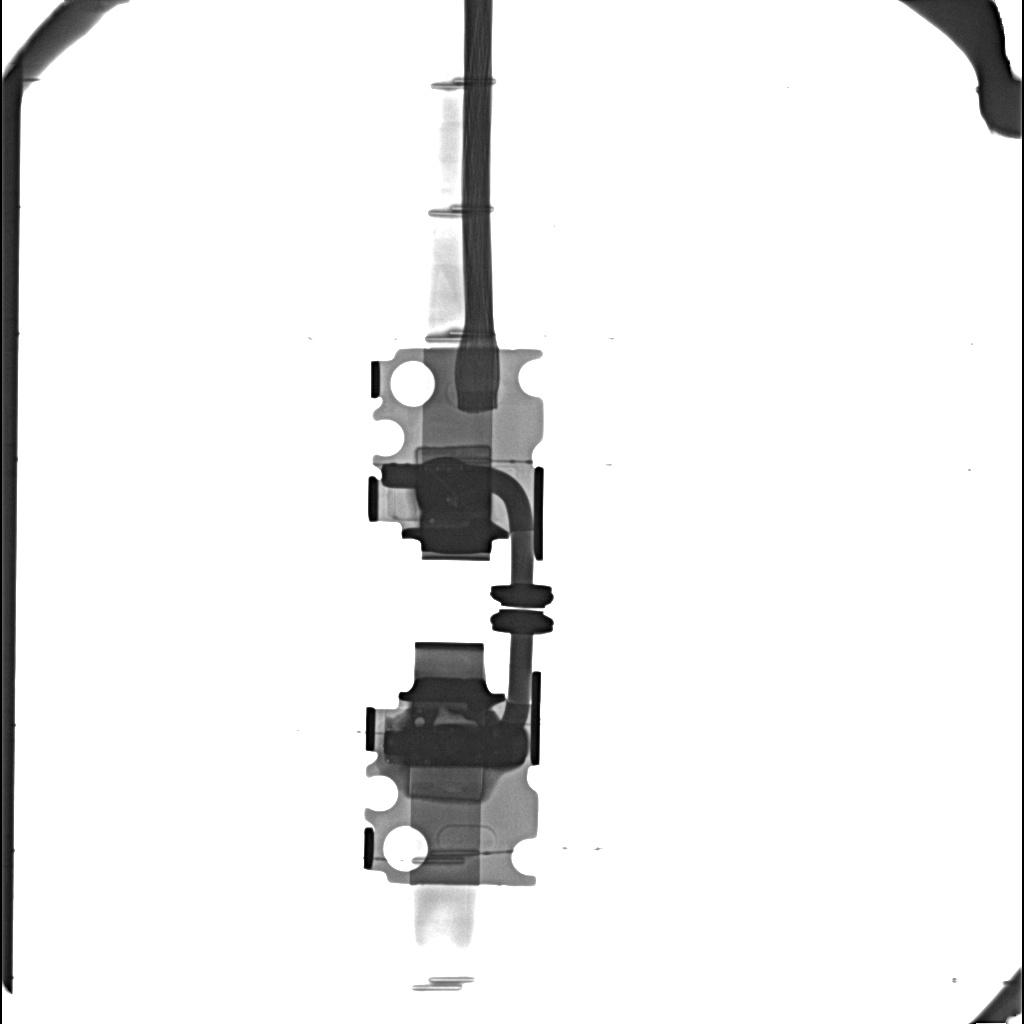PX: (407, 768, 485, 802), (414, 445, 491, 464)
QP: (433, 710, 476, 725), (415, 717, 424, 726)
SX: (402, 723, 527, 768), (417, 468, 489, 509)
